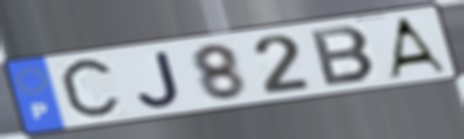2: (250, 32, 315, 97)
8: (186, 41, 251, 102)
A: (384, 15, 450, 80)
B: (307, 24, 380, 88)
C: (56, 54, 125, 124)
J: (134, 48, 184, 110)
